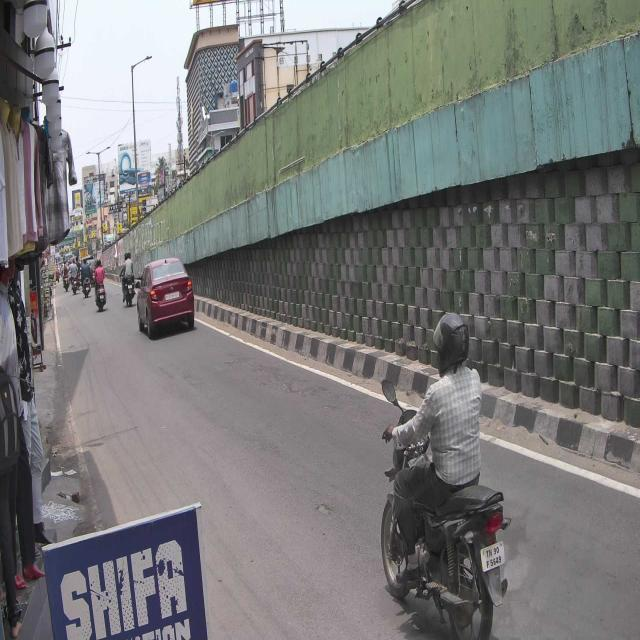single_rider: (380, 311, 510, 640)
